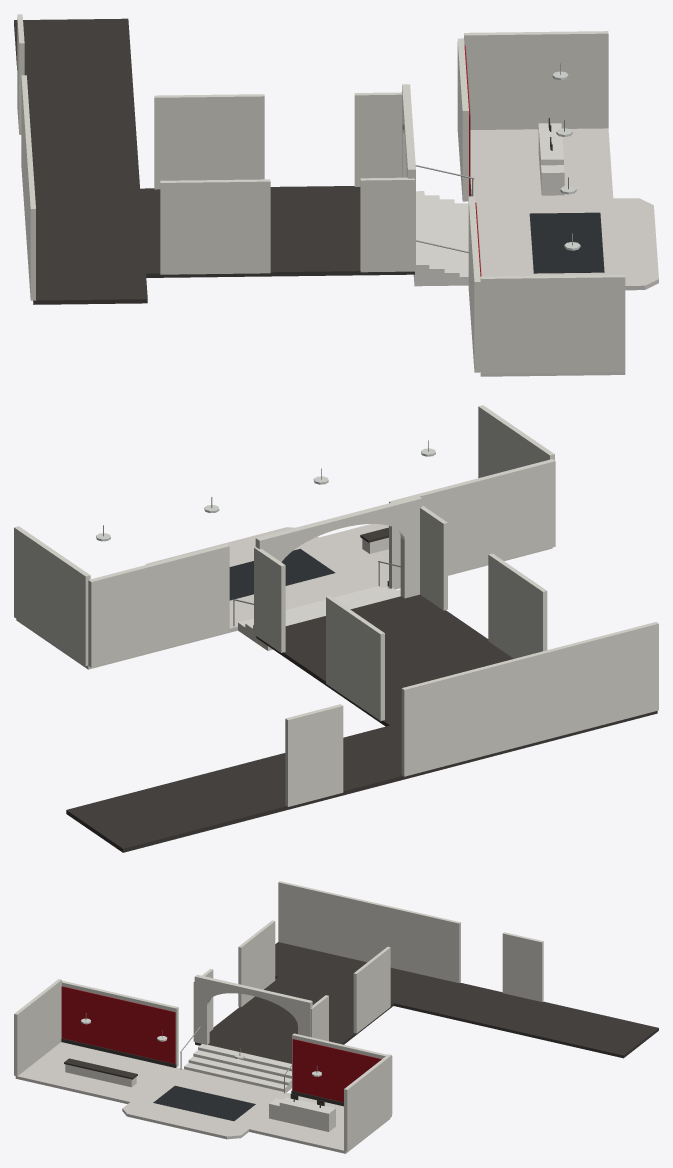
File: old-foyer-interior-ba3fa9e37629.glb
The picture shows the model from 3 angles, top to bottom: view 1: azimuth 30°, elevation 25°; view 2: azimuth 150°, elevation 25°; view 3: azimuth 270°, elevation 25°; orthographic projection. The views are drawn at different scales.
Parts seen in each view (by area): view 1: old-foyer; view 2: old-foyer; view 3: old-foyer.
Part boxes in pixels (x1,y1,x2,y2): old-foyer: (14,14,658,376); old-foyer: (14,405,658,852); old-foyer: (14,881,658,1153).
Bounding box in the file's own units: 21.55 × 3.99 × 29.41.
